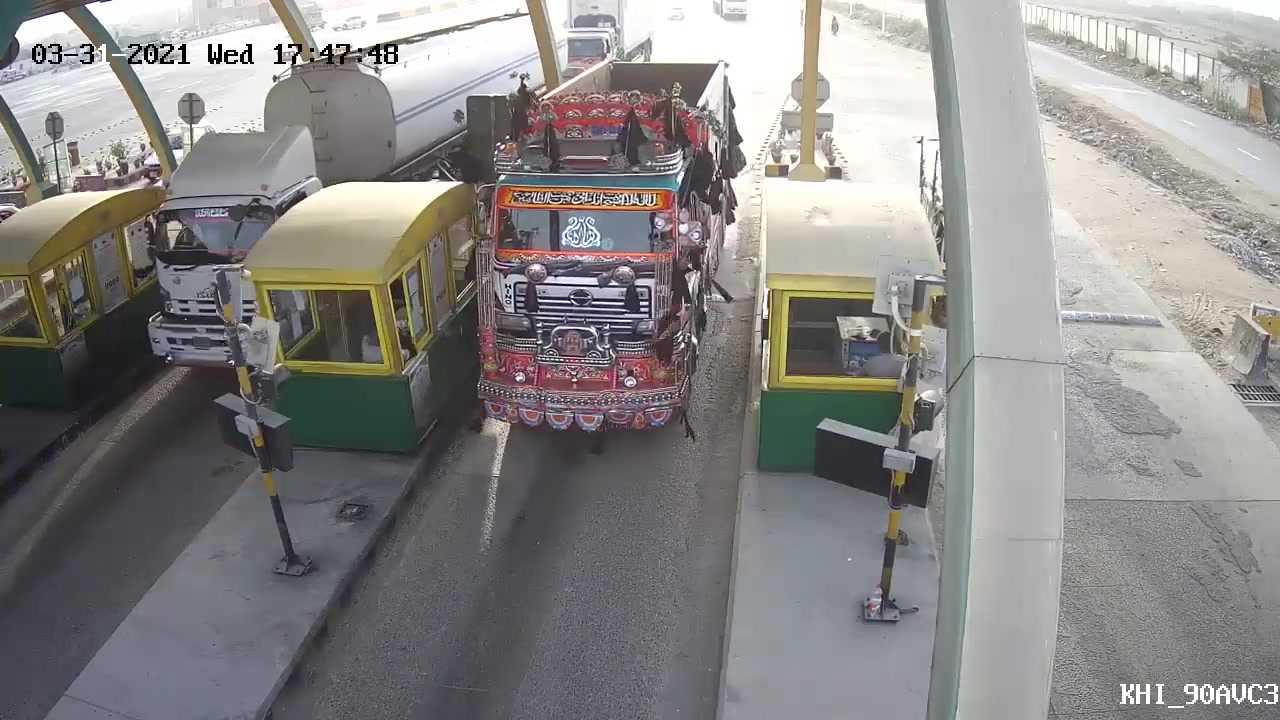F5: (467, 38, 746, 452)
